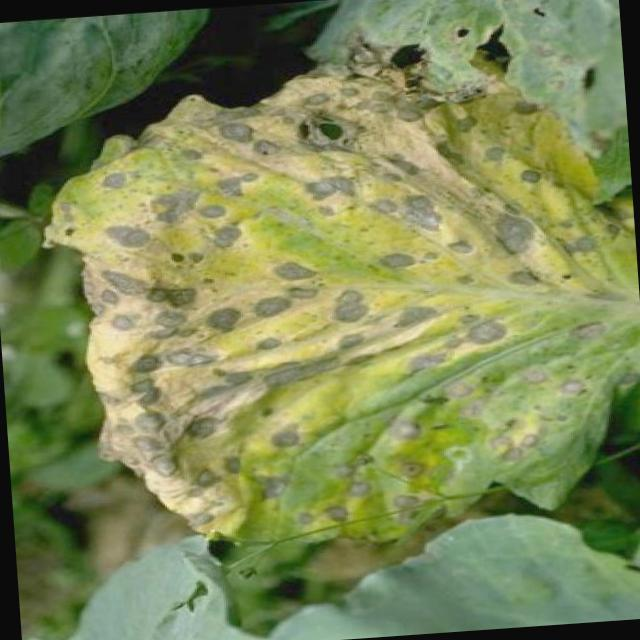Septoria_Blight: (48, 62, 631, 539)
